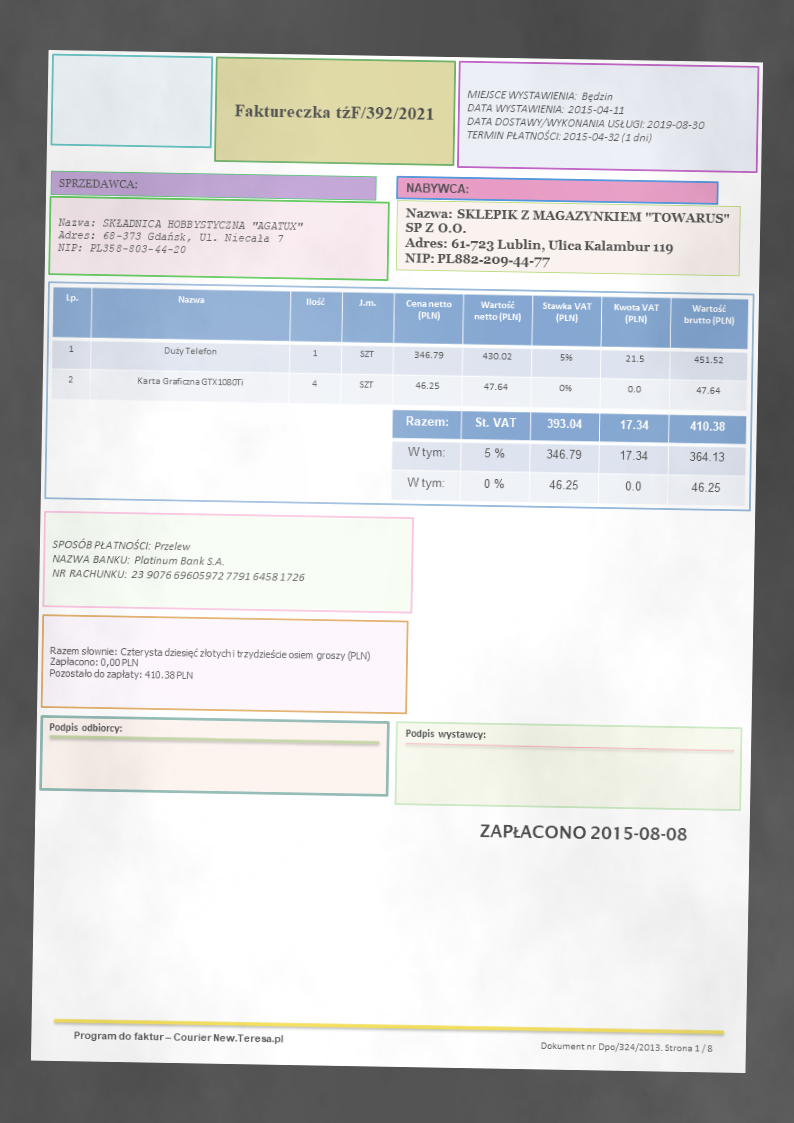Table: (51, 285, 749, 412), (390, 408, 747, 507)
TextBox: (402, 206, 732, 272), (465, 88, 707, 146), (48, 643, 372, 685), (49, 536, 307, 584), (56, 214, 304, 258), (233, 101, 435, 122), (479, 822, 688, 842), (71, 1028, 285, 1047), (539, 1038, 714, 1056), (56, 175, 141, 192), (403, 726, 487, 743), (47, 720, 124, 735), (404, 180, 470, 196)
